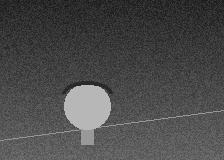no_helmet: (64, 81, 110, 134)
